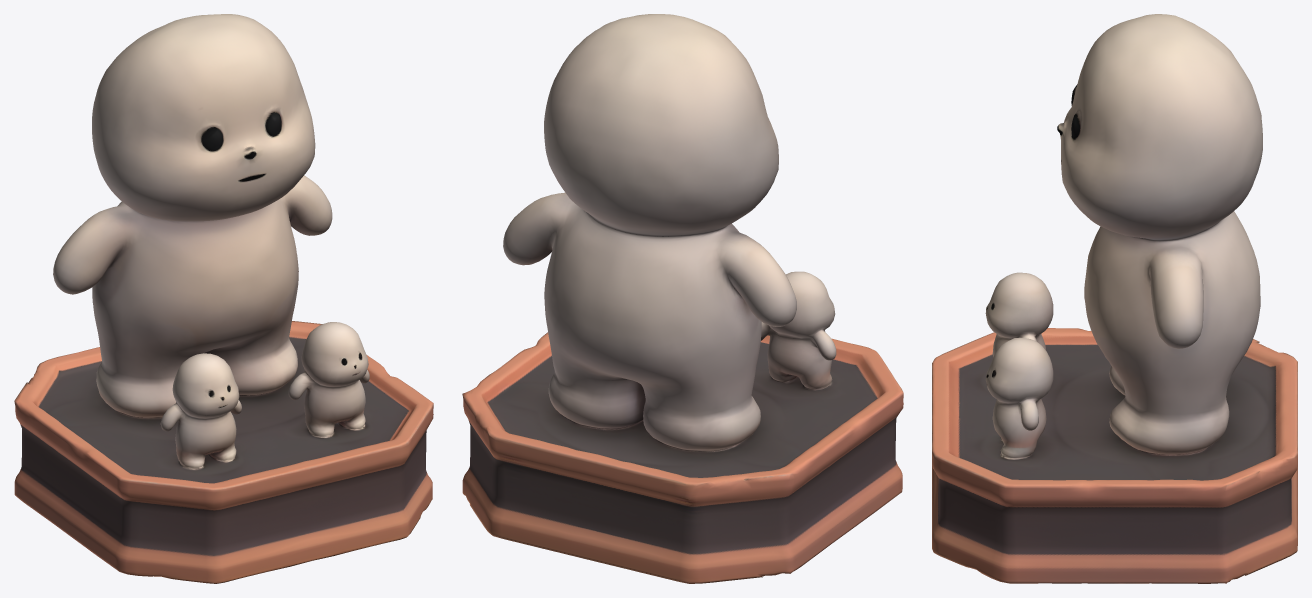
File: statue.glb
The picture shows the model from 3 angles, left to right: view 1: azimuth 30°, elevation 25°; view 2: azimuth 150°, elevation 25°; view 3: azimuth 270°, elevation 25°; orthographic projection. The views are drawn at different scales.
Visible parts, largest first — view 1: statue; view 2: statue; view 3: statue.
Boxes of the visible parts, box(x1,y1,x2,y2) form: statue: box(14, 14, 433, 583); statue: box(462, 14, 903, 583); statue: box(932, 14, 1297, 583).
Bounding box in the file's own units: 1.33 × 1.86 × 1.29.
Materials: 1 (1 with a texture image).
